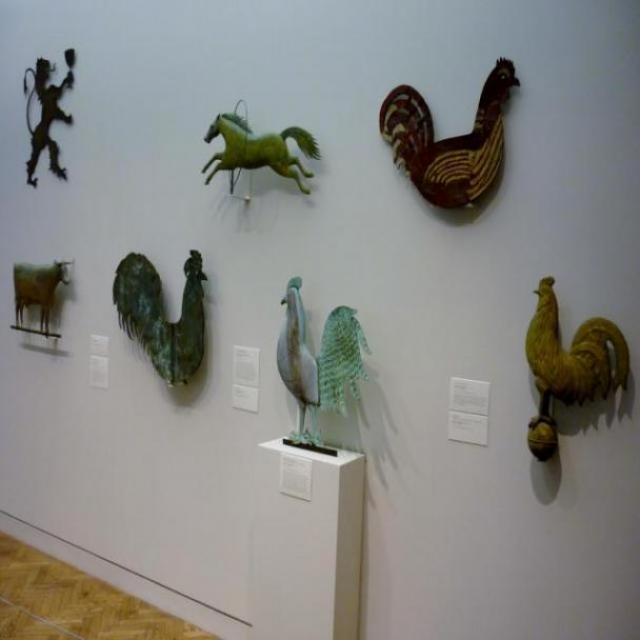Chicken: (377, 53, 523, 221), (110, 224, 209, 406), (275, 271, 378, 445), (520, 276, 631, 430)
